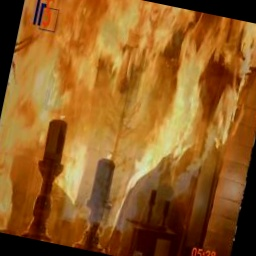fire: (0, 0, 256, 242)
